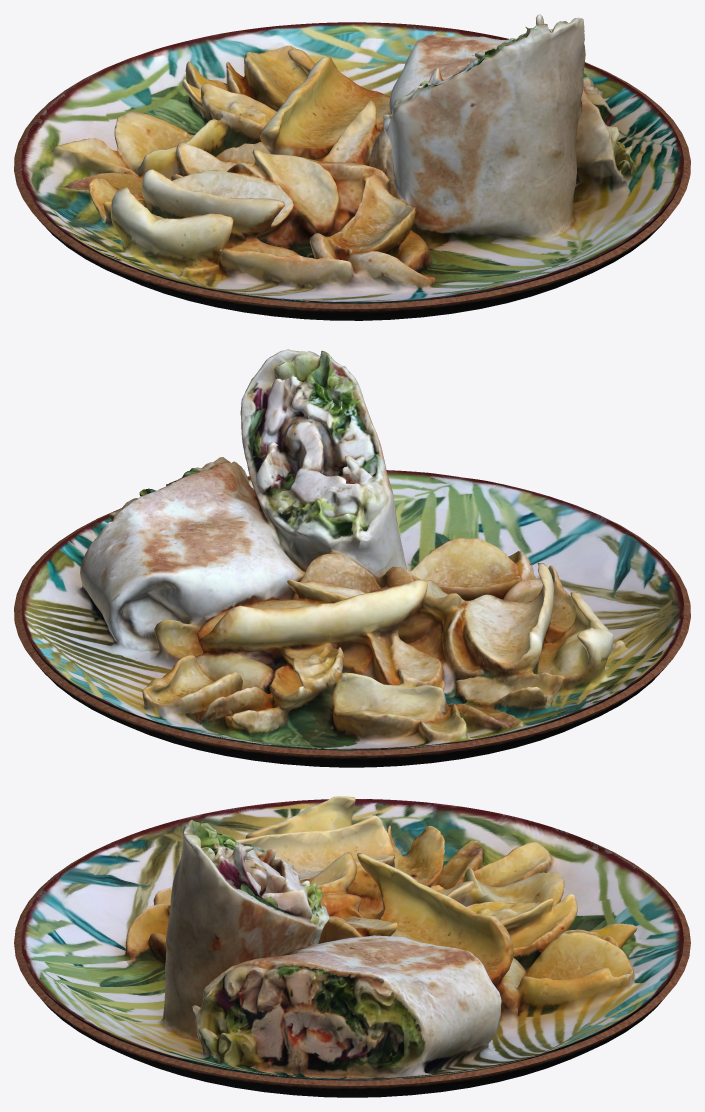
Rendered from Plato_06.glb.
3 views of the same model, one above another, from view 1: azimuth 30°, elevation 25°; view 2: azimuth 150°, elevation 25°; view 3: azimuth 270°, elevation 25° (orthographic).
Parts seen in each view (by area): view 1: Chicken Roll Decimate, ChickenRoll Blue Plate copy; view 2: Chicken Roll Decimate, ChickenRoll Blue Plate copy; view 3: Chicken Roll Decimate, ChickenRoll Blue Plate copy.
Boxes of the visible parts, x1,y1,x2,y2 form: Chicken Roll Decimate: [20, 14, 683, 302]; ChickenRoll Blue Plate copy: [14, 56, 690, 320]; Chicken Roll Decimate: [21, 349, 684, 749]; ChickenRoll Blue Plate copy: [14, 504, 690, 767]; Chicken Roll Decimate: [21, 796, 683, 1079]; ChickenRoll Blue Plate copy: [14, 840, 690, 1097].
Bounding box in the file's own units: 0.2551 × 0.0907 × 0.2551.
Materials: 2 (2 with a texture image).
